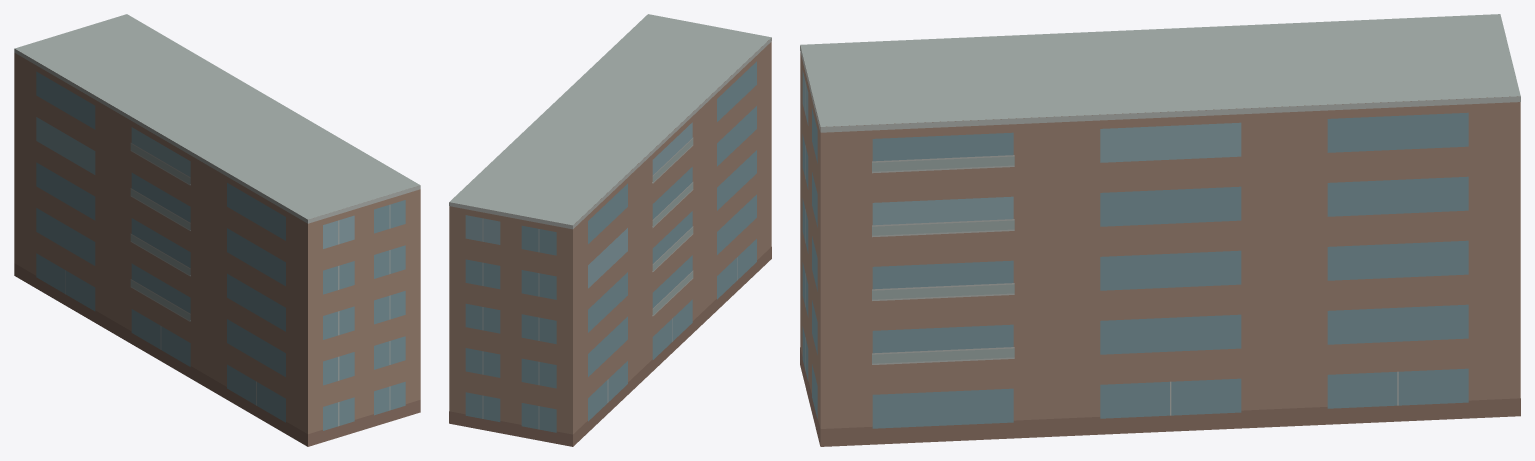
The model's file is survey-upis-32615646.glb.
3 renders of one model, left to right at view 1: azimuth 30°, elevation 25°; view 2: azimuth 150°, elevation 25°; view 3: azimuth 270°, elevation 25°, orthographic. The views are drawn at different scales.
Visible parts, largest first — view 1: survey-upis-32615646.tmp; view 2: survey-upis-32615646.tmp; view 3: survey-upis-32615646.tmp.
Boxes of the visible parts, x1,y1,x2,y2 form: survey-upis-32615646.tmp: [14, 14, 420, 446]; survey-upis-32615646.tmp: [449, 14, 771, 446]; survey-upis-32615646.tmp: [800, 14, 1520, 446].
Bounding box in the file's own units: 10.31 × 13.6 × 27.78.
